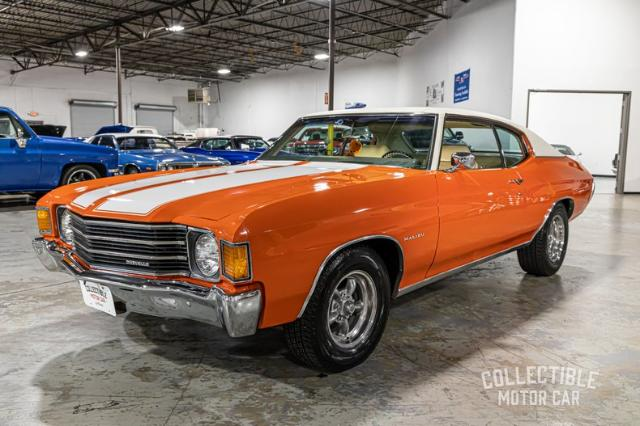chevelle-1972: (33, 107, 594, 372)
